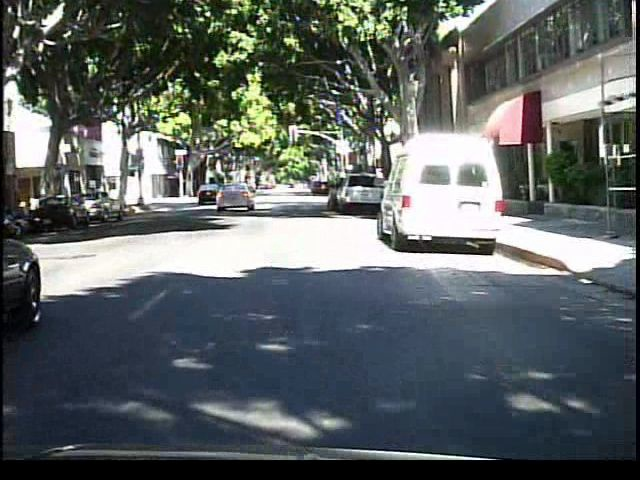person: (236, 174, 257, 208)
